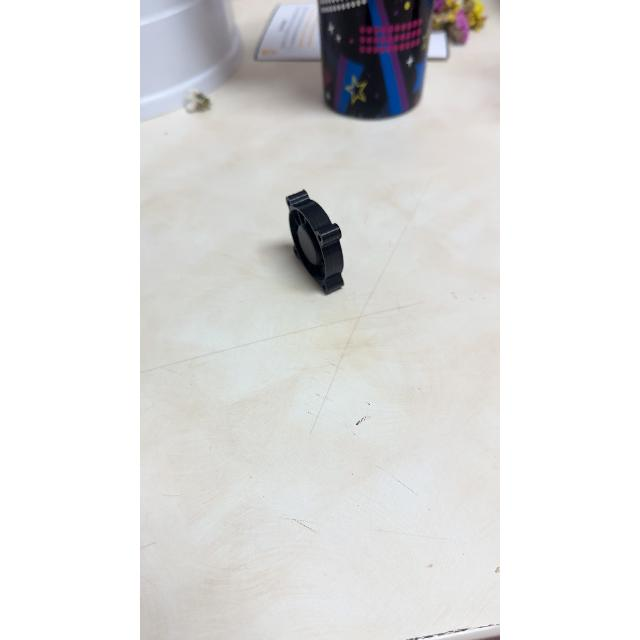Pieza_4: (272, 182, 360, 304)
